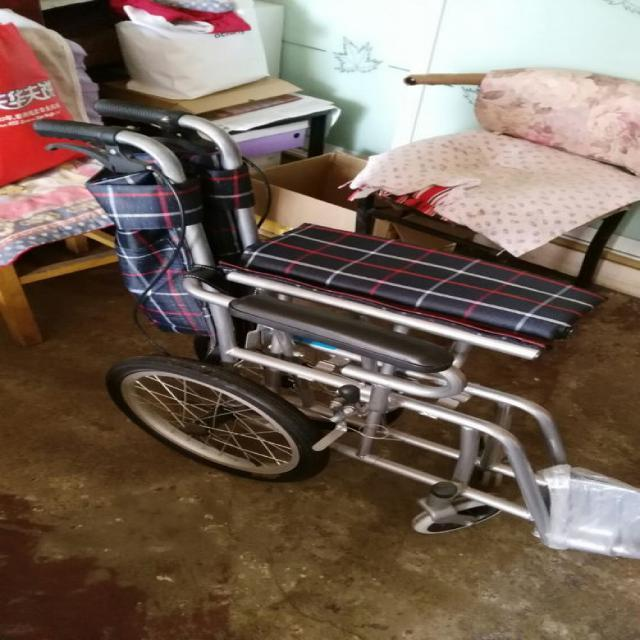wheelchairs: (42, 104, 640, 564)
